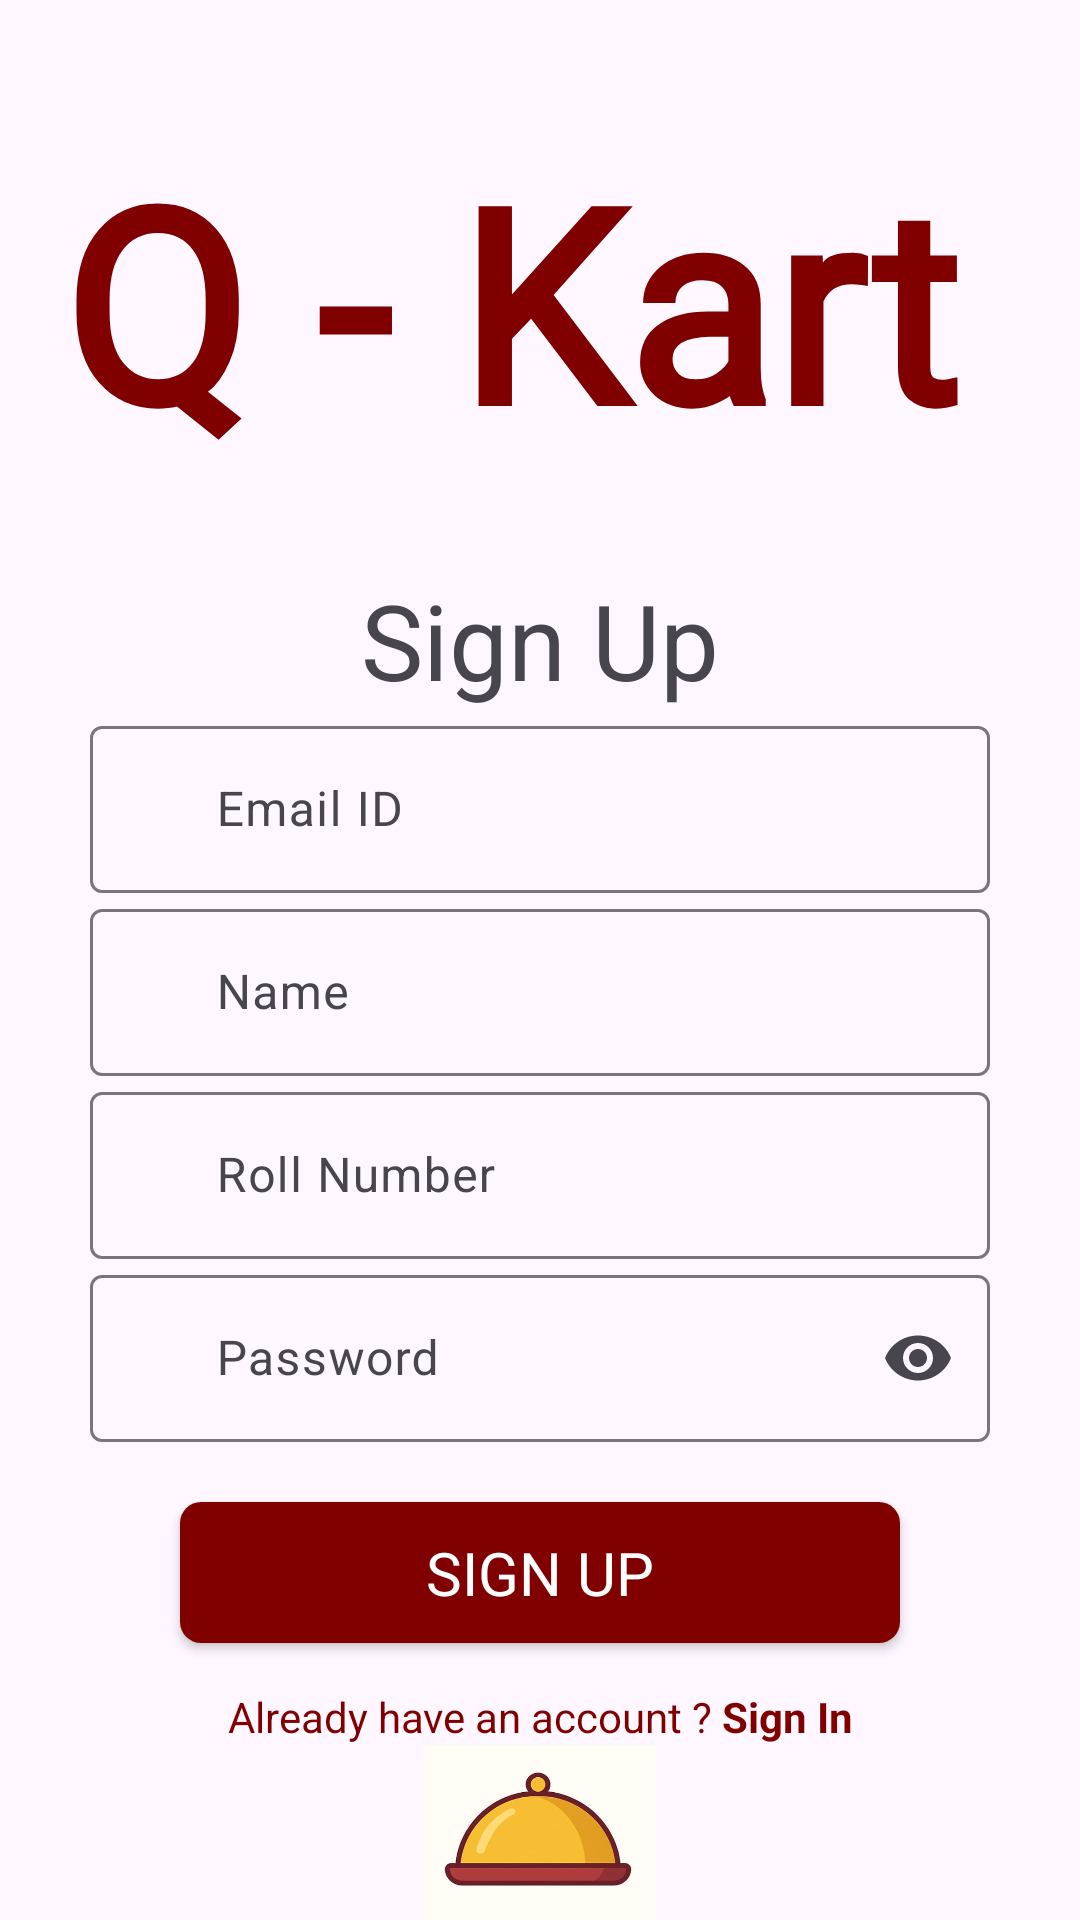

Icons on this 1080×1920 Android screen, each with the point to tap as point (x, y):
food: point (538, 1829)
